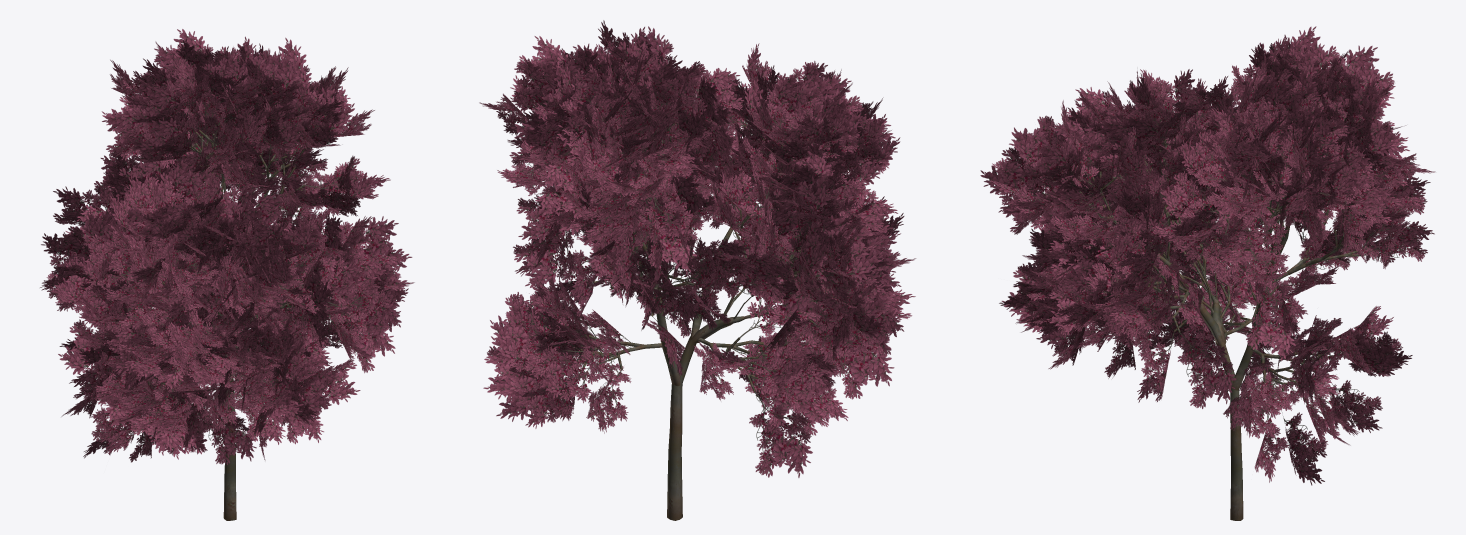
Rendered from forest-plum-tree-v1.glb.
The picture shows the model from 3 angles, left to right: view 1: azimuth 30°, elevation 25°; view 2: azimuth 150°, elevation 25°; view 3: azimuth 270°, elevation 25°; orthographic projection. The views are drawn at different scales.
Visible parts, largest first — view 1: PlumTree; view 2: PlumTree; view 3: PlumTree.
Boxes of the visible parts, x1=… form: PlumTree: x1=40, y1=29, x2=414, y2=520; PlumTree: x1=479, y1=20, x2=915, y2=520; PlumTree: x1=980, y1=26, x2=1435, y2=520.
Size of the model in its own units: 3.16 by 3.8 by 3.41.
Materials: 2 (2 with a texture image).
